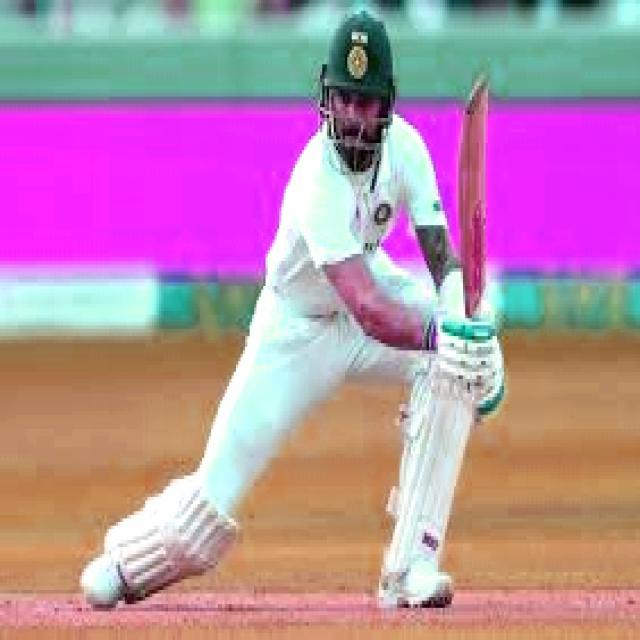bat: (463, 73, 495, 320)
toe: (464, 74, 494, 114)
